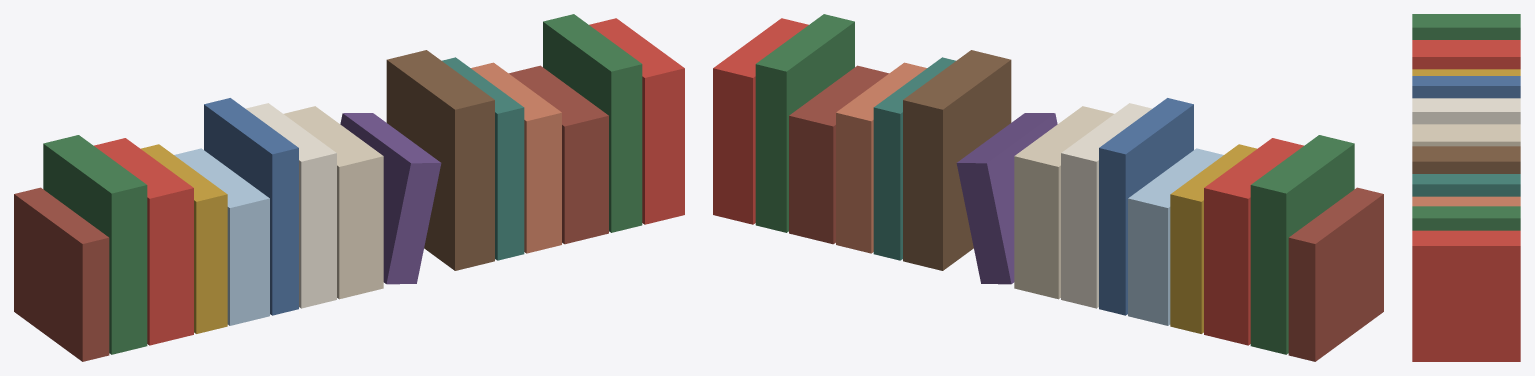
The model's file is shelf-books.glb.
3 renders of one model, left to right at view 1: azimuth 30°, elevation 25°; view 2: azimuth 150°, elevation 25°; view 3: azimuth 270°, elevation 25°, orthographic. The views are drawn at different scales.
Parts seen in each view (by area): view 1: shelf-books; view 2: shelf-books; view 3: shelf-books.
Part boxes in pixels (x1=…): shelf-books: x1=14, y1=14, x2=684, y2=361; shelf-books: x1=713, y1=14, x2=1383, y2=361; shelf-books: x1=1412, y1=14, x2=1520, y2=361.
Bounding box in the file's own units: 1.02 × 0.2657 × 0.2.
